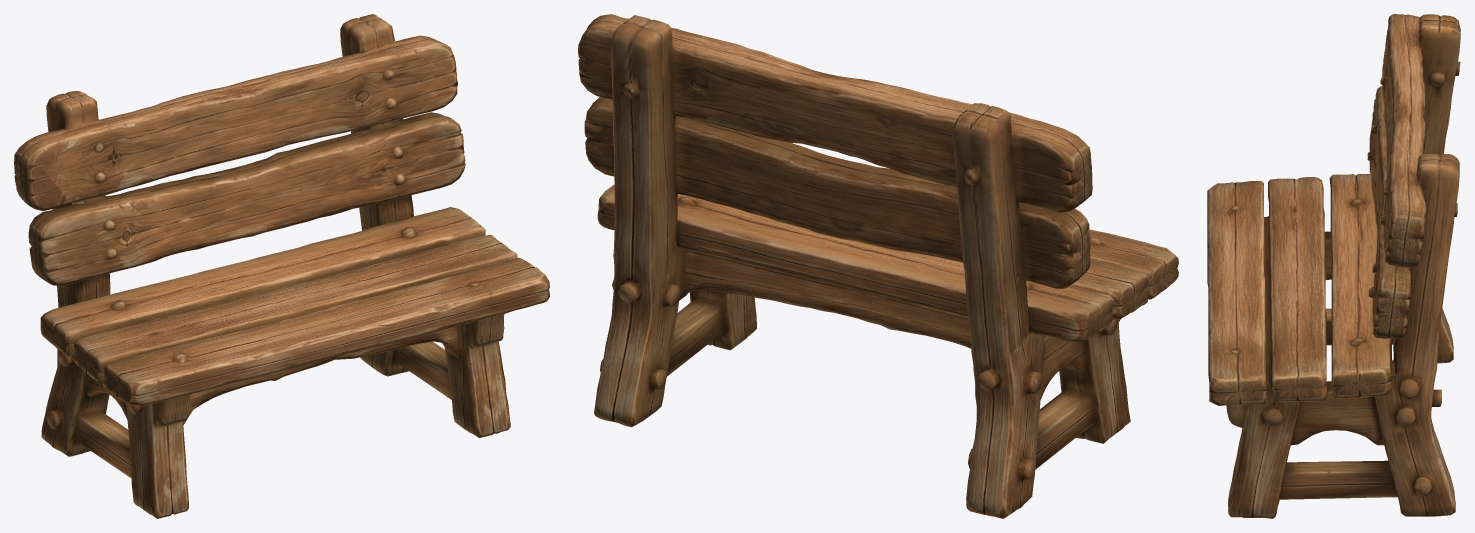
Rendered from garden_bench.glb.
3 renders of one model, left to right at view 1: azimuth 30°, elevation 25°; view 2: azimuth 150°, elevation 25°; view 3: azimuth 270°, elevation 25°, orthographic. The views are drawn at different scales.
Parts seen in each view (by area): view 1: tripo_node_7b9d9839-2e73-48d7-9f75-16b84000049c; view 2: tripo_node_7b9d9839-2e73-48d7-9f75-16b84000049c; view 3: tripo_node_7b9d9839-2e73-48d7-9f75-16b84000049c.
Part boxes in pixels (x1,y1,x2,y2): tripo_node_7b9d9839-2e73-48d7-9f75-16b84000049c: [14, 14, 549, 518]; tripo_node_7b9d9839-2e73-48d7-9f75-16b84000049c: [578, 14, 1178, 518]; tripo_node_7b9d9839-2e73-48d7-9f75-16b84000049c: [1207, 14, 1460, 518].
Bounding box in the file's own units: 0.9777 × 0.7442 × 0.4955.
1 material, 1 textured.
